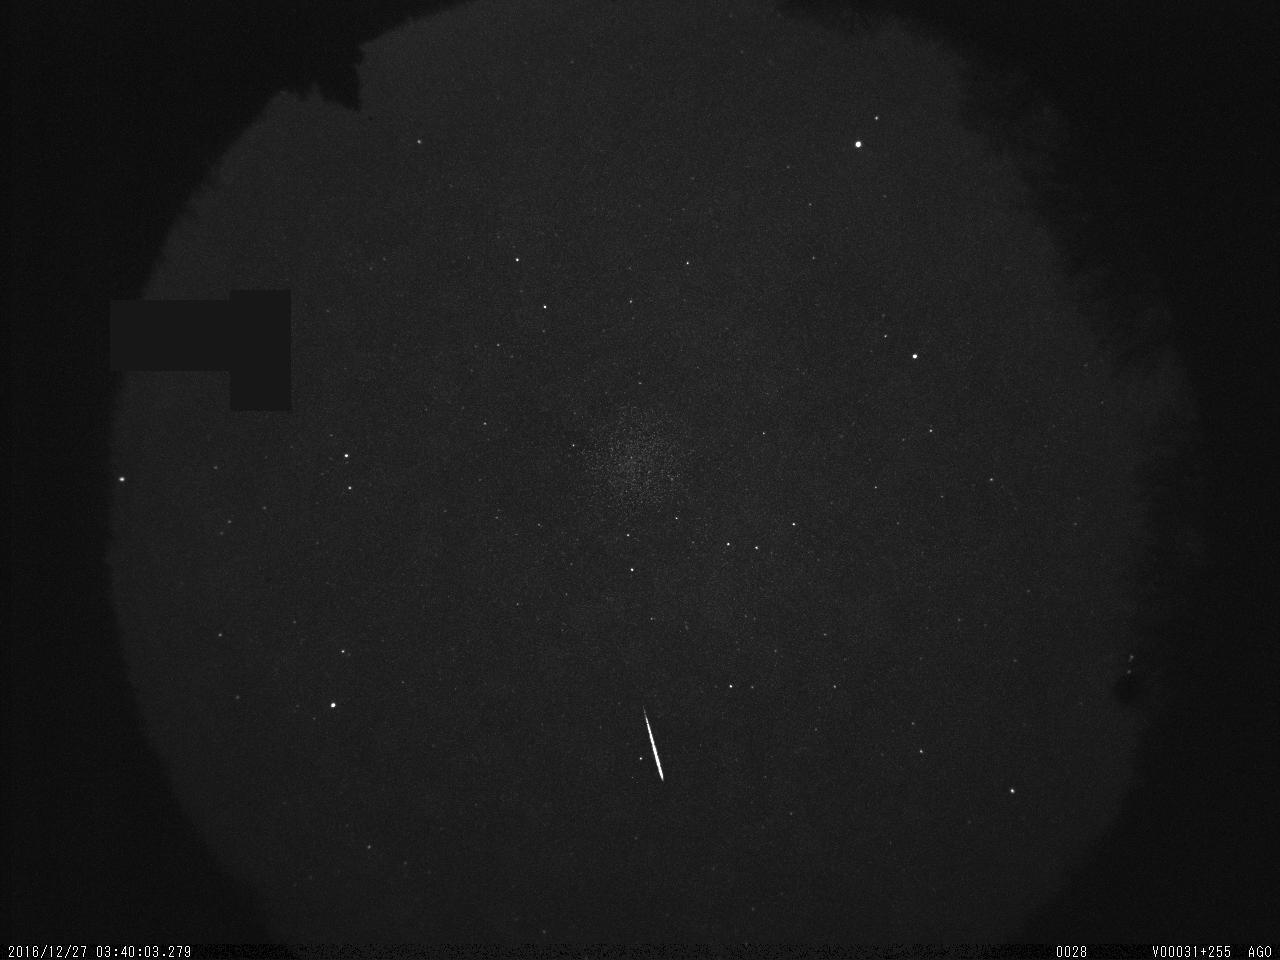meteor: (625, 705, 687, 799)
